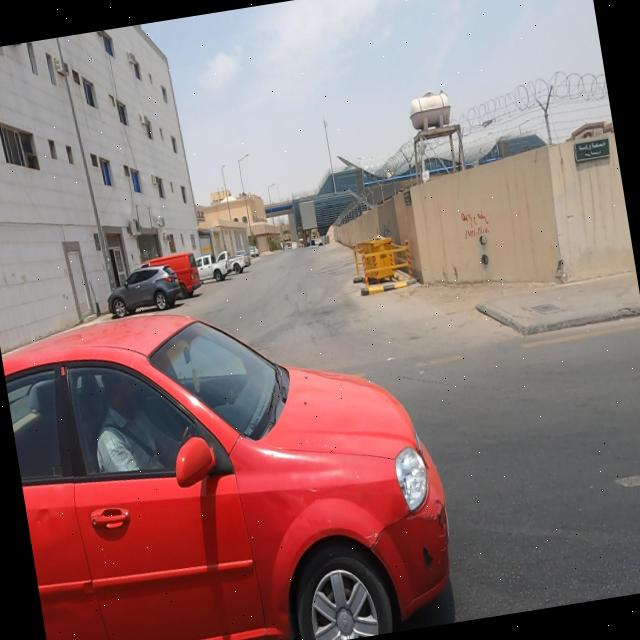Graffiti: (461, 207, 494, 243), (380, 220, 394, 237)
